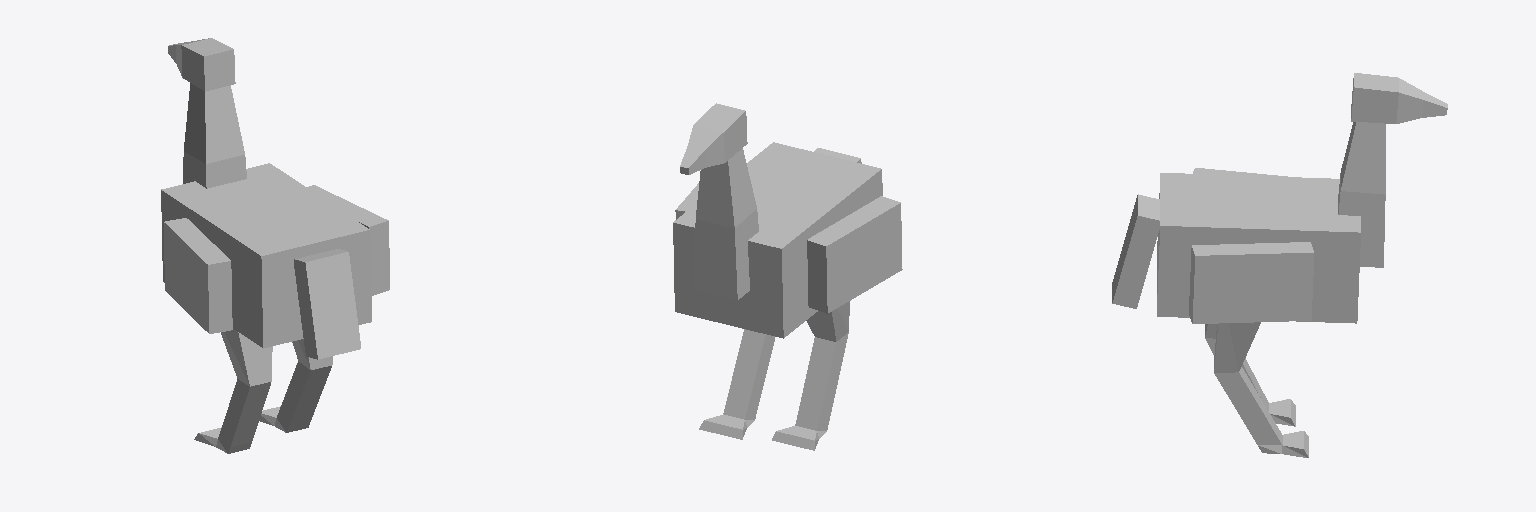
Rendered from Ostrich_000120.obj.
The picture shows the model from 3 angles: view 1: azimuth 30°, elevation 25°; view 2: azimuth 150°, elevation 25°; view 3: azimuth 270°, elevation 25°; orthographic projection.
Parts seen in each view (by area): view 1: Cube_Cube.001; view 2: Cube_Cube.001; view 3: Cube_Cube.001.
Boxes of the visible parts, box(x1,y1,x2,y2) form: Cube_Cube.001: box(161, 38, 389, 453); Cube_Cube.001: box(673, 103, 902, 450); Cube_Cube.001: box(1112, 73, 1447, 457).
Size of the model in its own units: 0.8326 by 1.55 by 1.33.